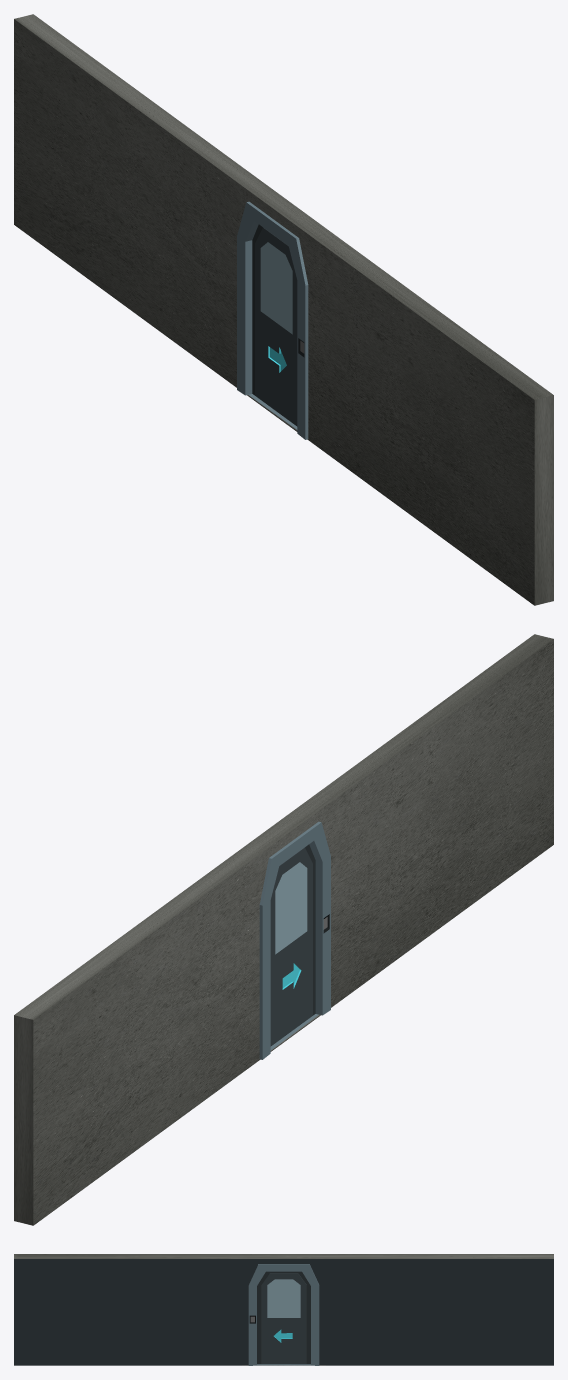
The model's file is PuertaDeNetsNivel2.fbx.
The picture shows the model from 3 angles, top to bottom: view 1: azimuth 30°, elevation 25°; view 2: azimuth 150°, elevation 25°; view 3: azimuth 270°, elevation 25°; orthographic projection. The views are drawn at different scales.
Parts seen in each view (by area): view 1: Cube.008, Cube.009; view 2: Cube.008, Cube.009; view 3: Cube.008, Cube.009.
Boxes of the visible parts, x1=… form: Cube.008: x1=14, y1=14, x2=553, y2=605; Cube.009: x1=252, y1=224, x2=297, y2=426; Cube.008: x1=14, y1=634, x2=553, y2=1225; Cube.009: x1=270, y1=844, x2=315, y2=1046; Cube.008: x1=14, y1=1254, x2=553, y2=1365; Cube.009: x1=257, y1=1271, x2=310, y2=1364.
Bounding box in the file's own units: 40.31 × 312 × 1430.
Materials: 2 (2 with a texture image).
